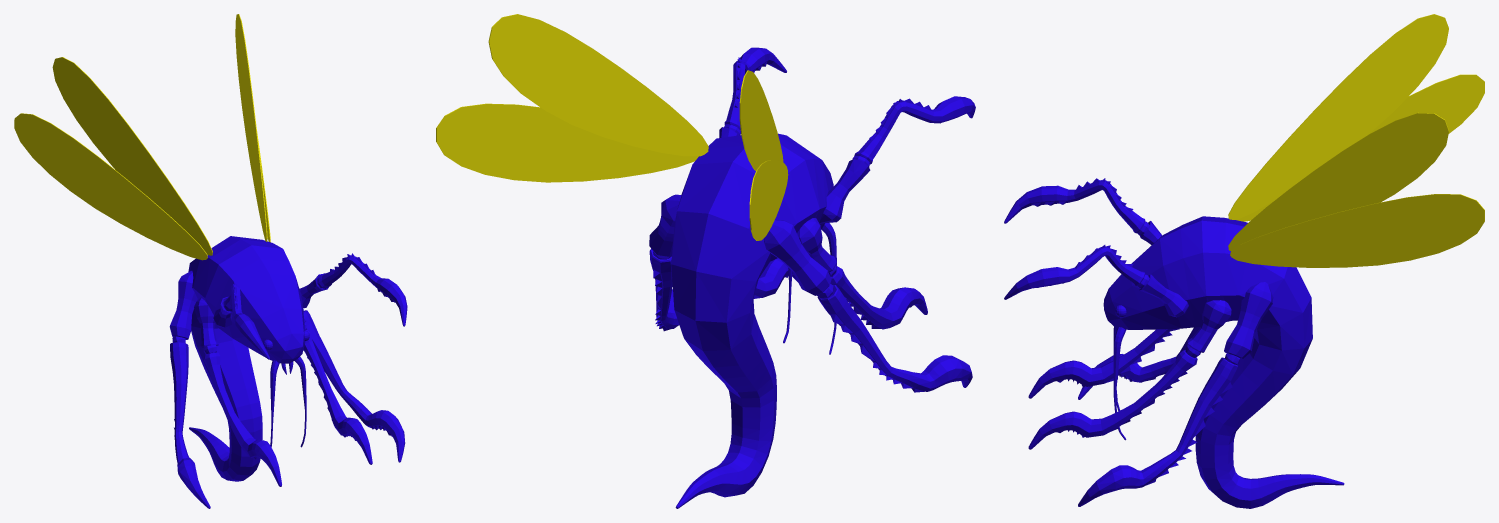
The model's file is TestFly.fbx.
3 views of the same model, side by side, from view 1: azimuth 30°, elevation 25°; view 2: azimuth 150°, elevation 25°; view 3: azimuth 270°, elevation 25° (orthographic). The views are drawn at different scales.
Parts seen in each view (by area): view 1: fly.002; view 2: fly.002; view 3: fly.002.
Boxes of the visible parts, x1,y1,x2,y2 form: fly.002: (14,14,407,508); fly.002: (436,14,975,508); fly.002: (1004,14,1484,508).
Size of the model in its own units: 3.44 by 5.52 by 5.42.
